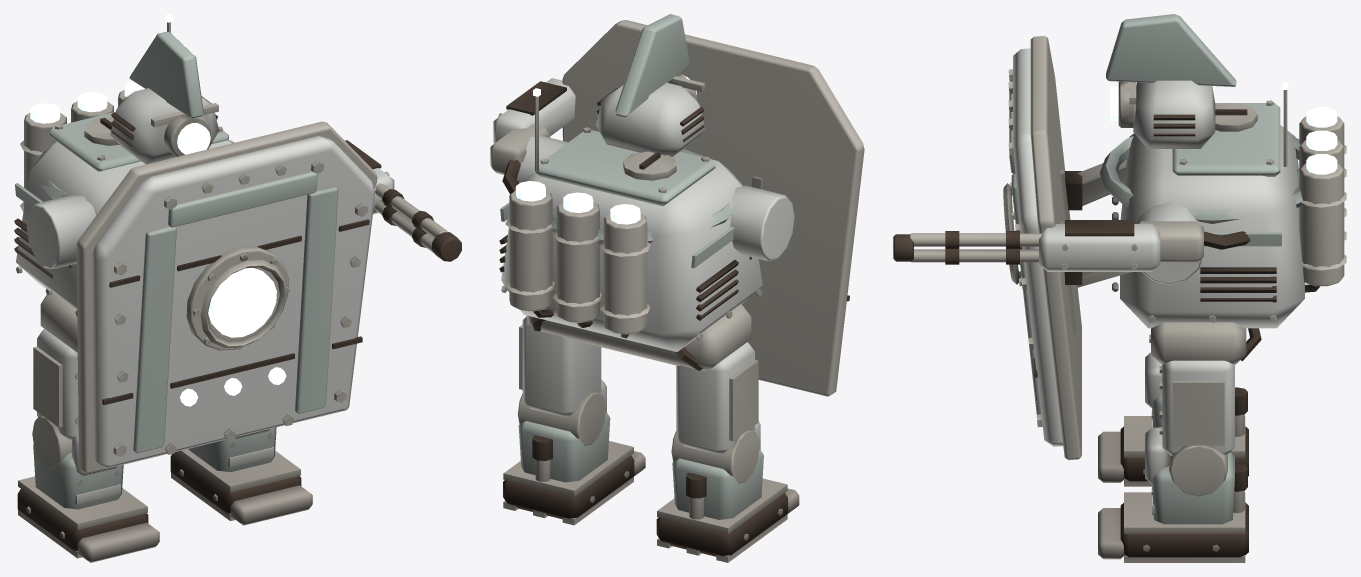
The model's file is bulwark.glb.
The picture shows the model from 3 angles, left to right: view 1: azimuth 30°, elevation 25°; view 2: azimuth 150°, elevation 25°; view 3: azimuth 270°, elevation 25°; orthographic projection. The views are drawn at different scales.
Visible parts, largest first — view 1: Ward_plate, Shield_stripes, Ward_rim, Body_hull, Crest, Shoulder_socket, Ward_emitter, Shield_crown, Head, Shin, Ward_boss, Ankle_band (+24 smaller); view 2: Ward_rim, Body_hull, Capacitors, Roof_panel, Upper_leg.001, Head, Upper_leg, Shoulder_socket, Hip_bridge, Crest, Shin, Shin.001 (+20 smaller); view 3: Body_hull, Ward_rim, Ward_plate, Crest, Capacitors, Roof_panel, Barrel_housing, Head, Hip_bridge, Thigh_plates.001, Shin.001, Upper_leg.001 (+29 smaller).
Boxes of the visible parts, bbox=[...] form: Ward_plate: bbox=[91, 136, 374, 468]; Shield_stripes: bbox=[133, 186, 338, 453]; Ward_rim: bbox=[76, 121, 377, 473]; Body_hull: bbox=[16, 140, 232, 309]; Crest: bbox=[129, 31, 203, 118]; Shoulder_socket: bbox=[26, 195, 96, 269]; Ward_emitter: bbox=[208, 268, 276, 337]; Shield_crown: bbox=[168, 171, 317, 227]; Head: bbox=[110, 88, 218, 164]; Shin: bbox=[33, 445, 123, 509]; Ward_boss: bbox=[186, 246, 288, 350]; Ankle_band: bbox=[18, 476, 147, 529]; Ward_rim: bbox=[562, 20, 864, 396]; Body_hull: bbox=[501, 159, 762, 351]; Capacitors: bbox=[509, 190, 647, 334]; Roof_panel: bbox=[534, 130, 715, 206]; Upper_leg.001: bbox=[522, 317, 601, 417]; Head: bbox=[596, 82, 705, 156]; Upper_leg: bbox=[676, 342, 754, 454]; Shoulder_socket: bbox=[516, 136, 794, 260]; Hip_bridge: bbox=[526, 304, 751, 371]; Crest: bbox=[615, 14, 689, 117]; Shin: bbox=[672, 449, 763, 519]; Shin.001: bbox=[518, 411, 610, 482]; Body_hull: bbox=[1120, 125, 1304, 328]; Ward_rim: bbox=[1030, 36, 1081, 460]; Ward_plate: bbox=[1013, 48, 1063, 446]; Crest: bbox=[1106, 14, 1236, 86]; Capacitors: bbox=[1299, 116, 1344, 286]; Roof_panel: bbox=[1172, 103, 1280, 176]; Barrel_housing: bbox=[1039, 224, 1160, 271]; Head: bbox=[1133, 80, 1215, 148]; Hip_bridge: bbox=[1151, 322, 1246, 364]; Thigh_plates.001: bbox=[1172, 381, 1224, 445]; Shin.001: bbox=[1152, 452, 1234, 524]; Upper_leg.001: bbox=[1162, 360, 1234, 455].
Bounding box in the file's own units: 2.16 × 3.12 × 2.61.
